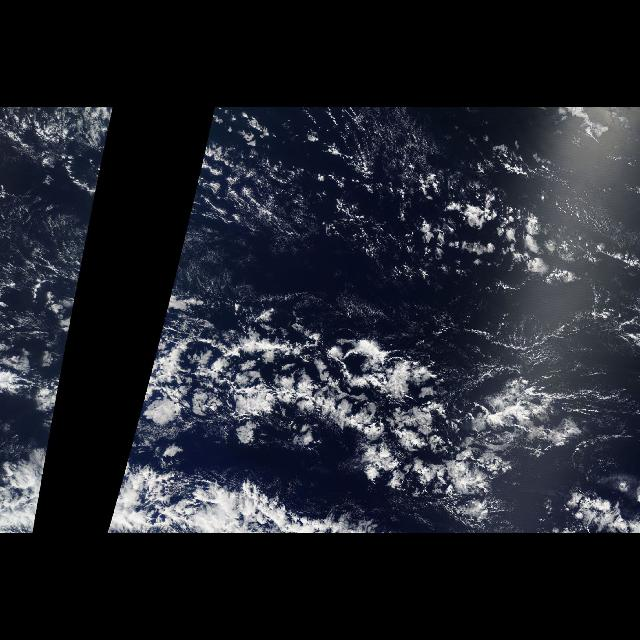Fish: (107, 261, 639, 534), (0, 261, 82, 534)
Flower: (154, 306, 458, 474)
